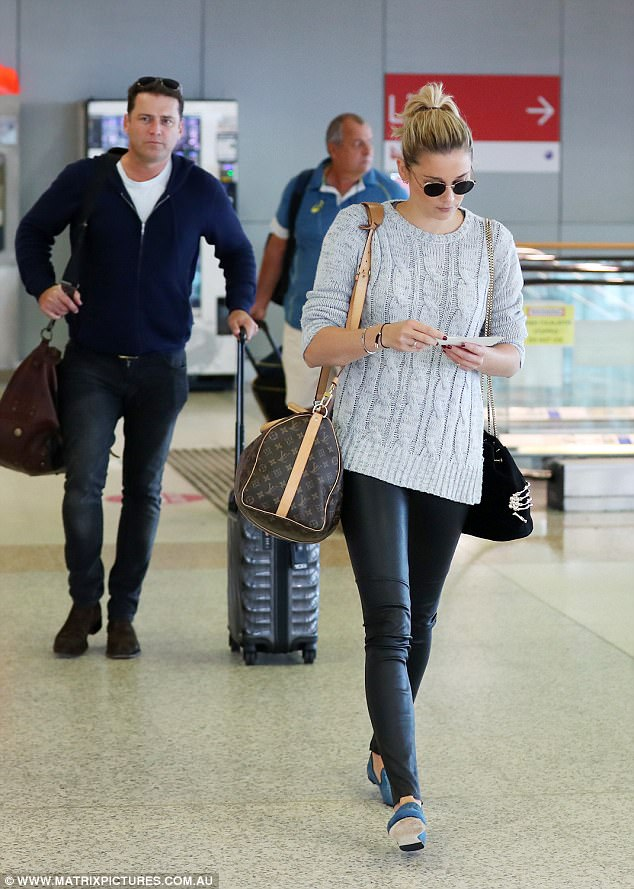Person: (341, 80, 527, 850), (16, 75, 258, 656), (262, 112, 397, 204)
